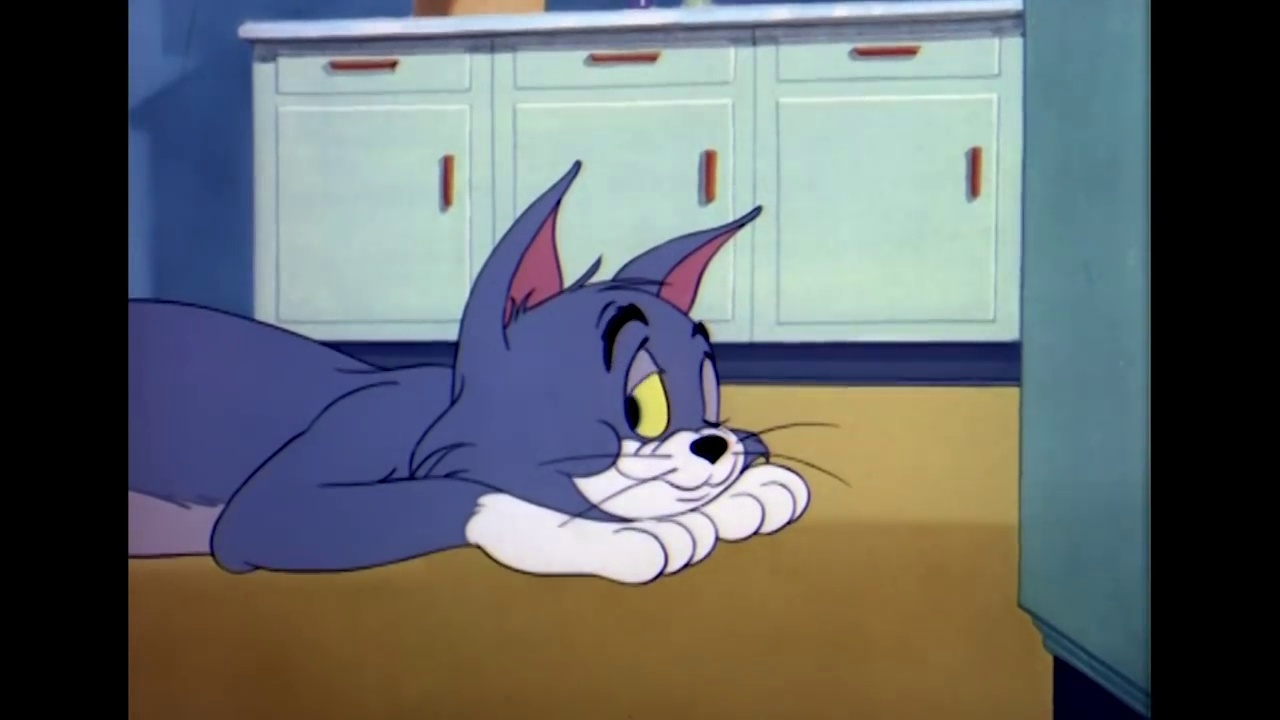tom: (406, 162, 782, 522)
